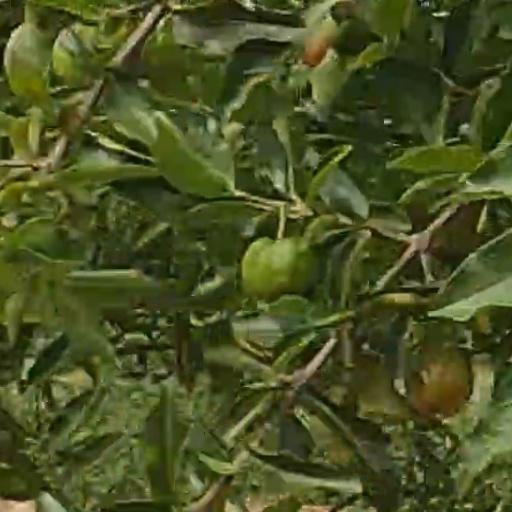acerola: (242, 236, 316, 300)
